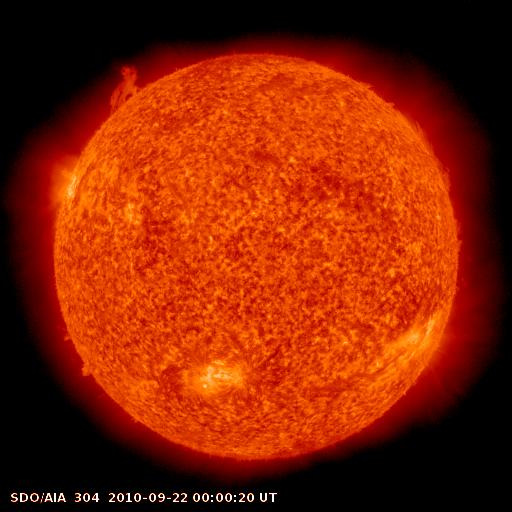prominence: (414, 119, 461, 202), (102, 54, 157, 123), (57, 319, 101, 385)
